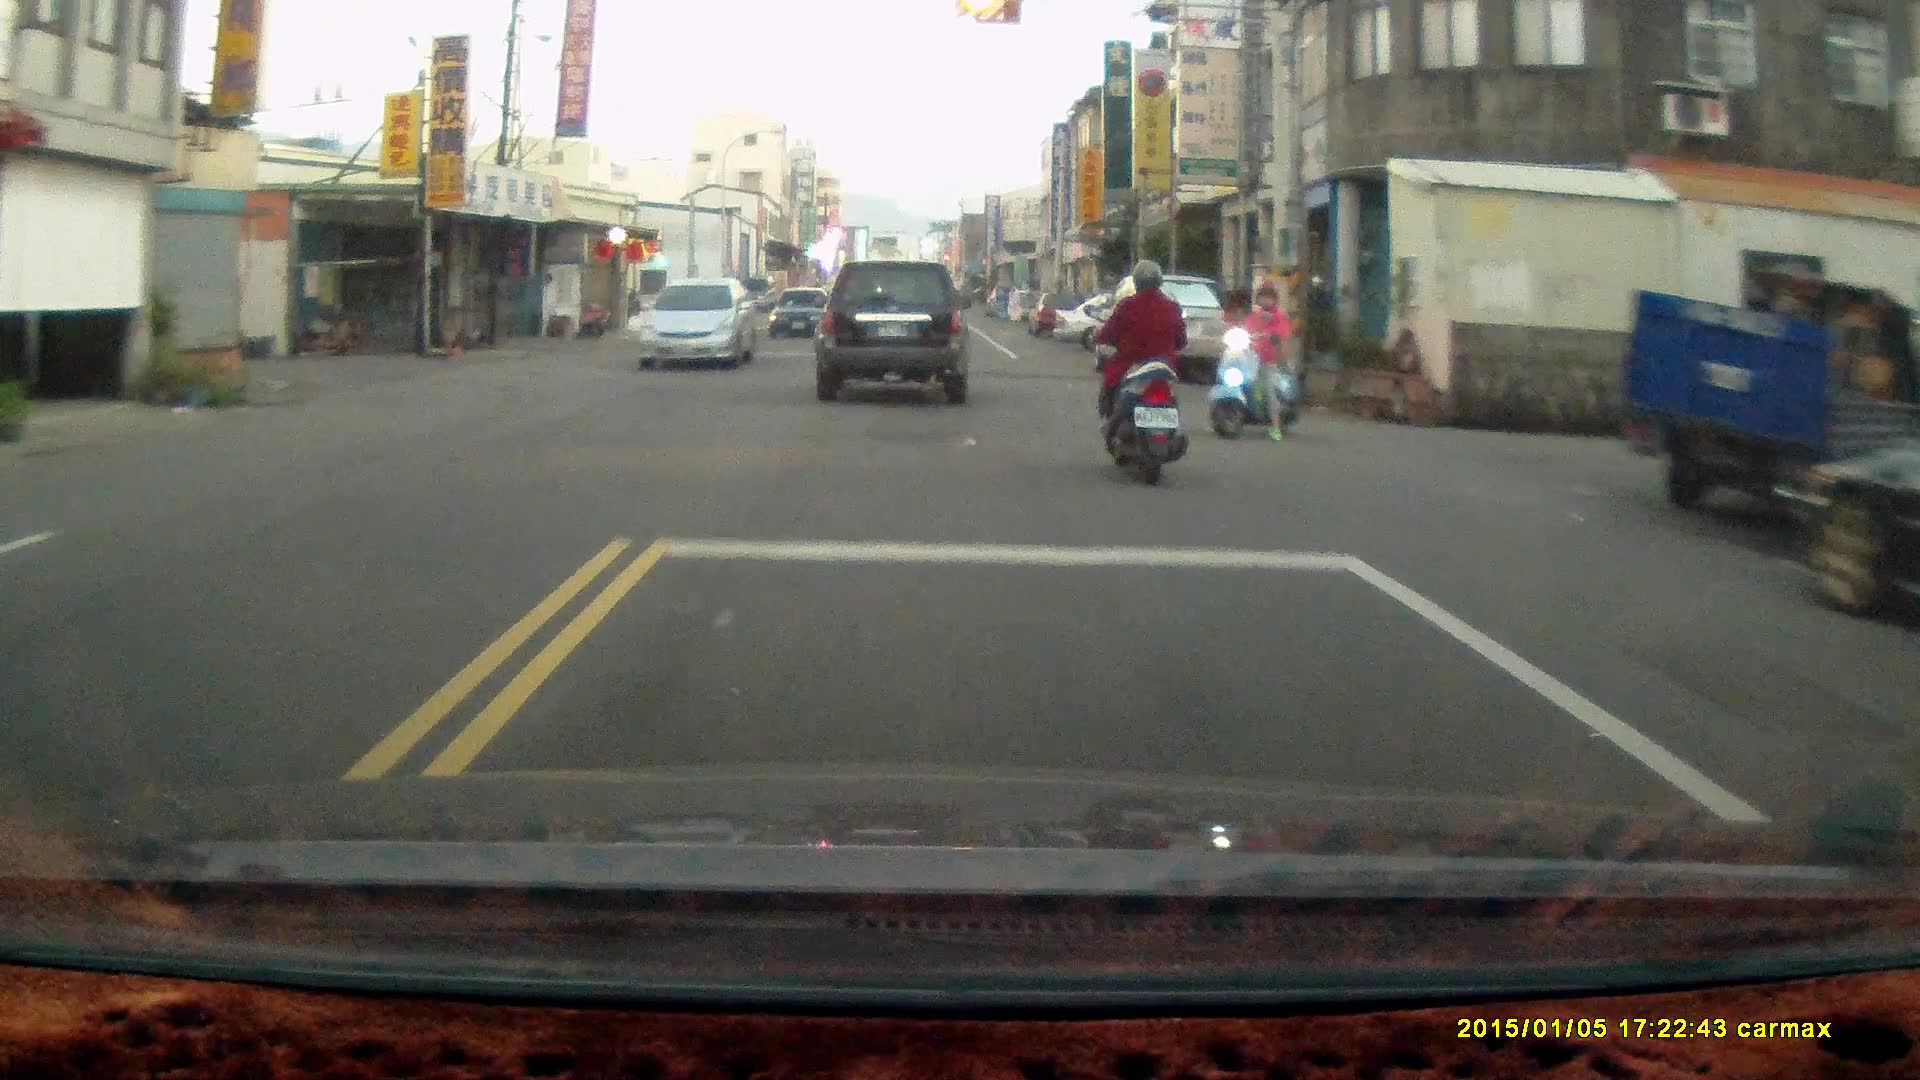rider: (1098, 254, 1186, 489), (1207, 270, 1302, 440)
vehicle: (1614, 251, 1920, 540), (1796, 363, 1920, 630), (814, 254, 978, 403), (1098, 273, 1239, 382), (631, 278, 763, 370)
